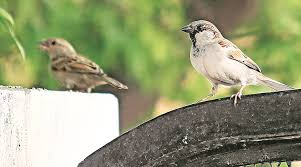hsparrow: (173, 11, 294, 104), (31, 34, 138, 95)
